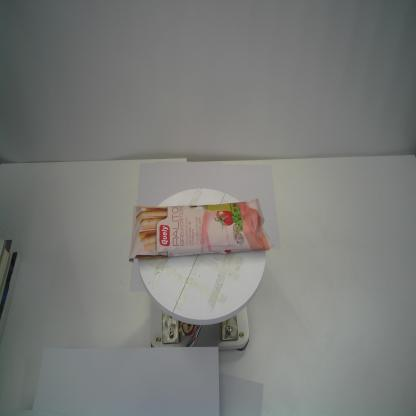Dessert: (128, 194, 275, 264)
